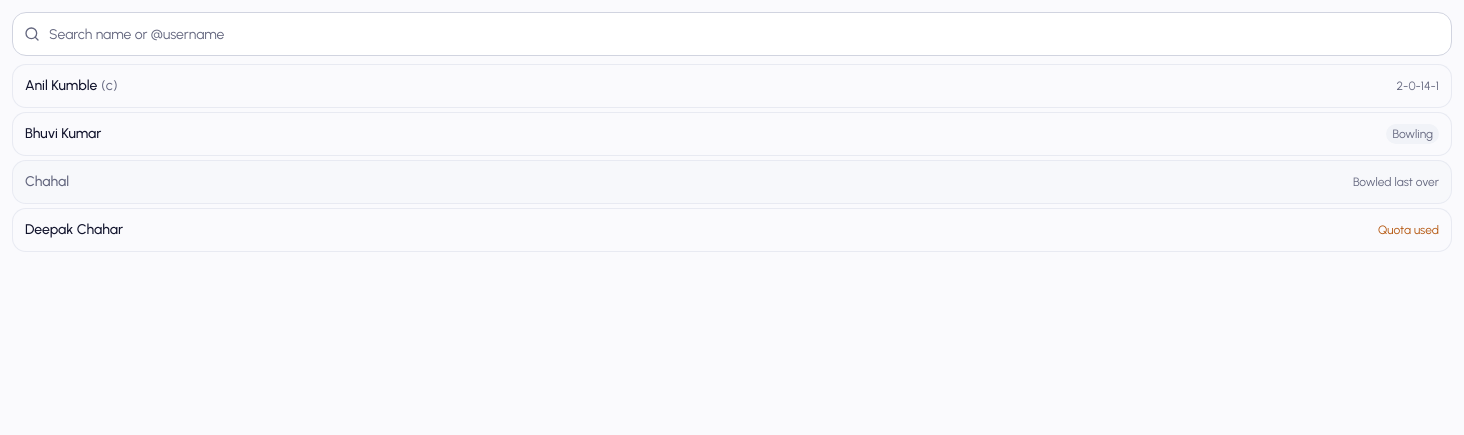
Test: PlayerPicker never suggests a duplicate by accident › says when more match than it lists
Type "Rahul" into the search field.
click(732, 34); type("Rahul")  # box left=12, top=12, right=1452, bottom=56
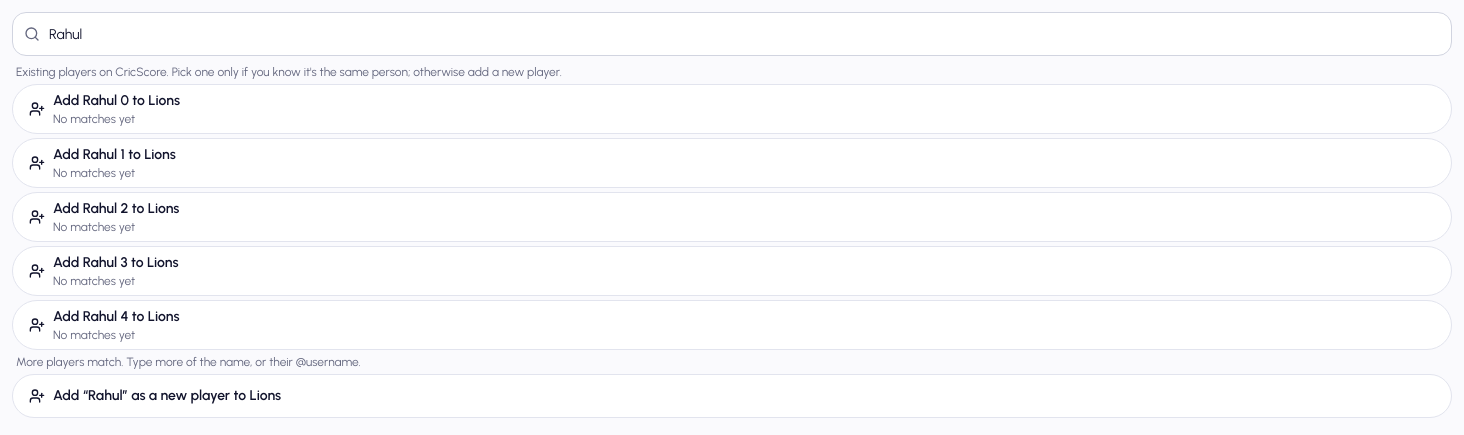
Expected: the text "More players match. Type more of the name, or their @username." is shown, left=16, top=355, right=361, bottom=369
Expected: the number of buttons "Add Rahul 0 to Lions No matches yet" is 5, left=12, top=84, right=1452, bottom=134; left=12, top=138, right=1452, bottom=188; left=12, top=192, right=1452, bottom=242; left=12, top=246, right=1452, bottom=296; left=12, top=300, right=1452, bottom=350
